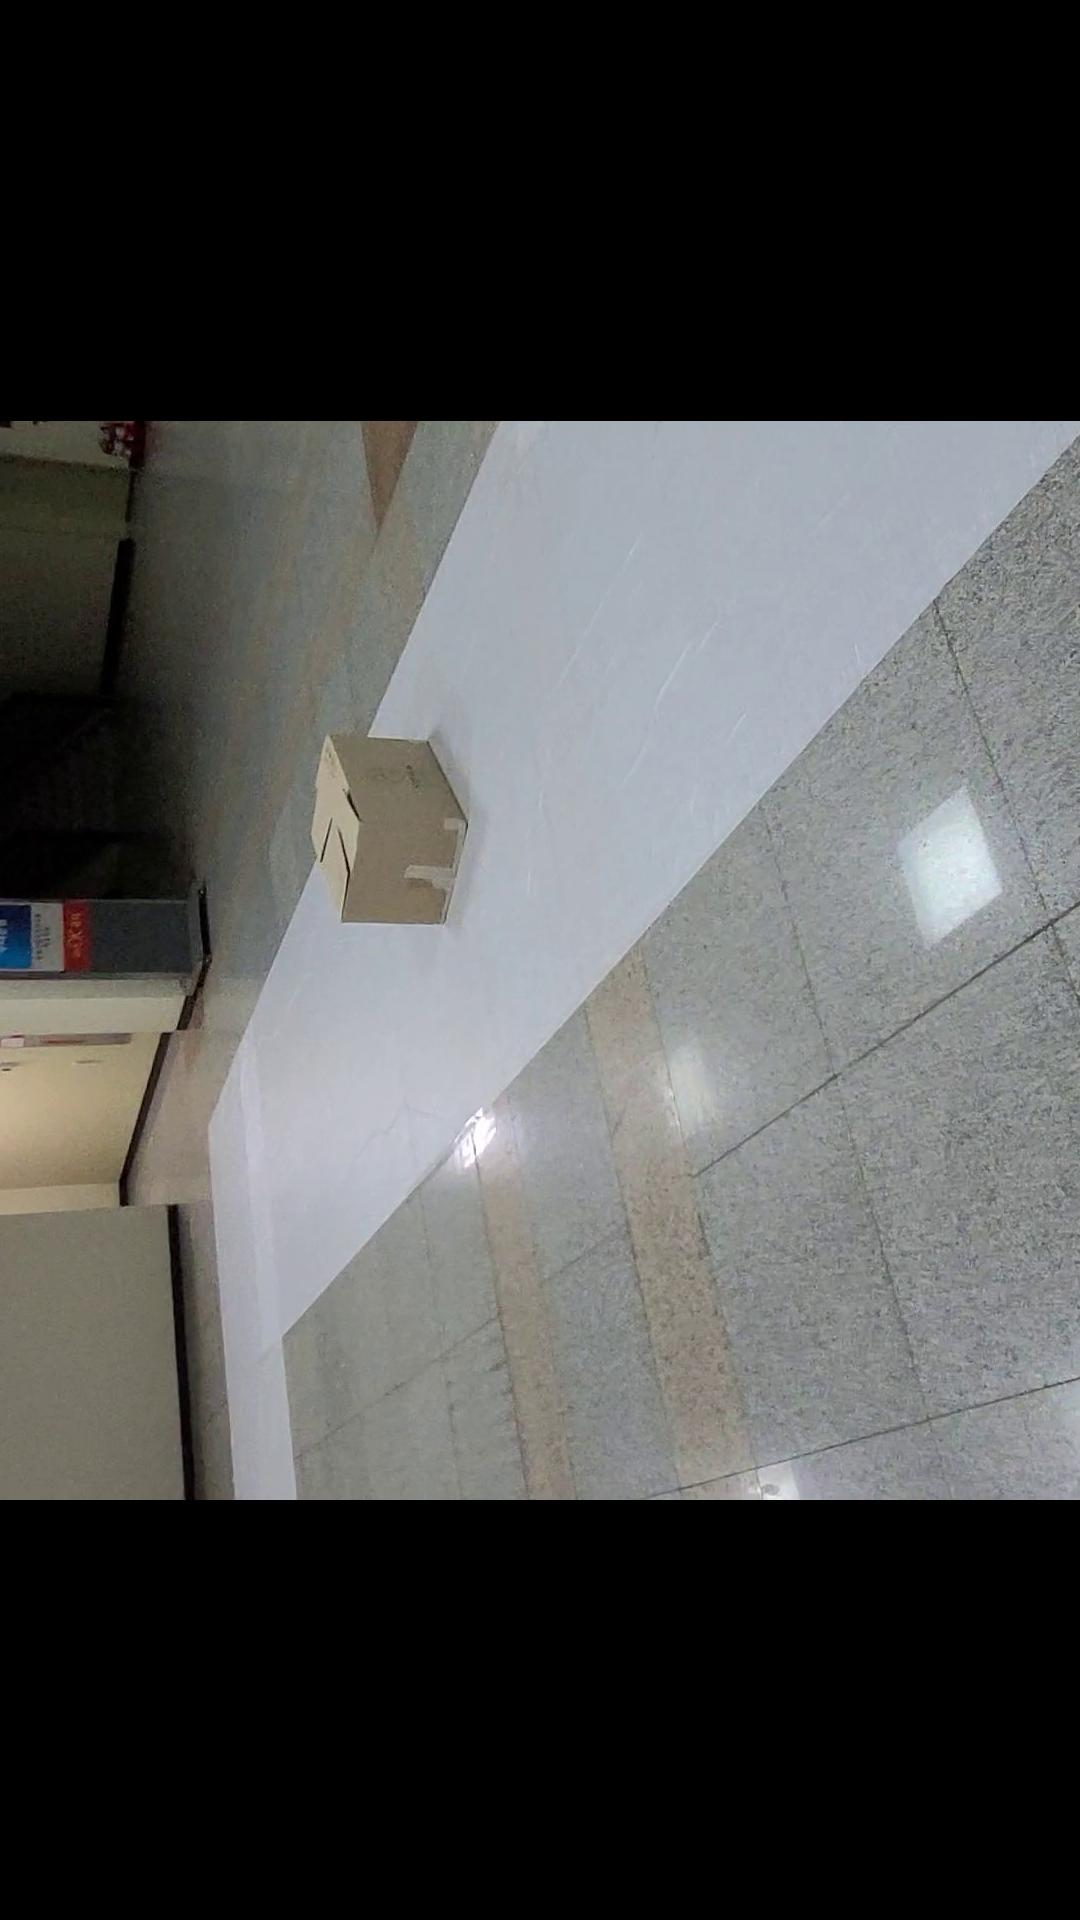Box: (270, 705, 497, 944)
